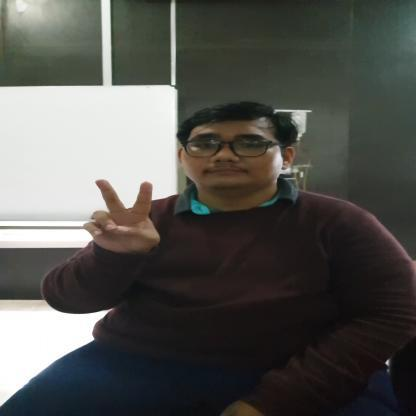V: (80, 178, 166, 256)
